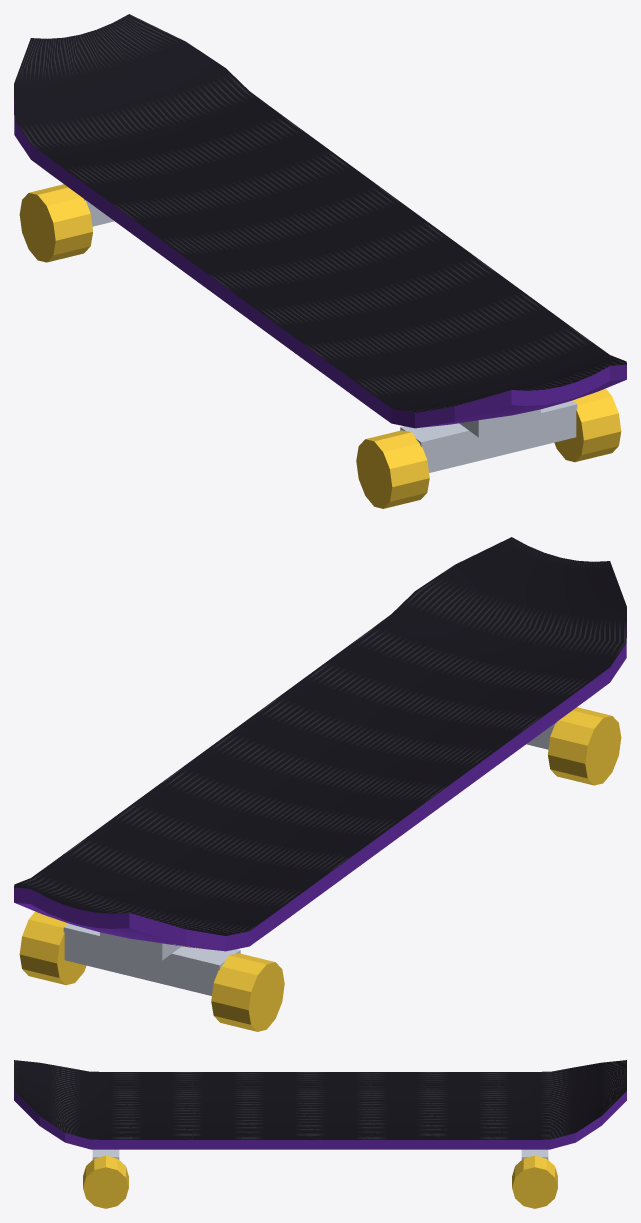
File: pyre_deck.glb
3 views of the same model, one above another, from view 1: azimuth 30°, elevation 25°; view 2: azimuth 150°, elevation 25°; view 3: azimuth 270°, elevation 25° (orthographic). The views are drawn at different scales.
Parts seen in each view (by area): view 1: PyreDeck; view 2: PyreDeck; view 3: PyreDeck.
Boxes of the visible parts, x1=… form: PyreDeck: x1=14, y1=14, x2=626, y2=508; PyreDeck: x1=14, y1=537, x2=626, y2=1031; PyreDeck: x1=14, y1=1060, x2=626, y2=1208.
Size of the model in its own units: 0.22 by 0.141 by 0.8.
Materials: 1 (1 with a texture image).
